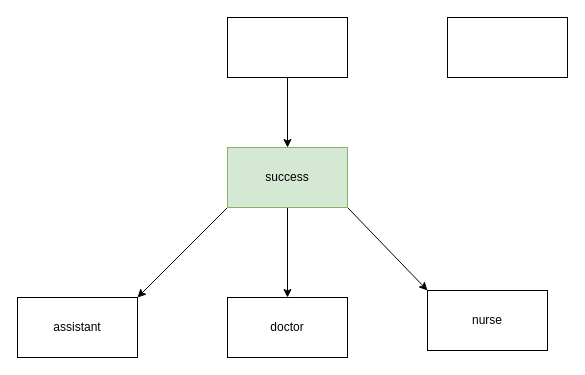
This 585x375 diagram has some shape labels left out. The shapes that lost their labels are listed below. From the top down, each one's centre as x and y in pixels, then its label:
At (287,47): "login".
At (507,47): "register".
